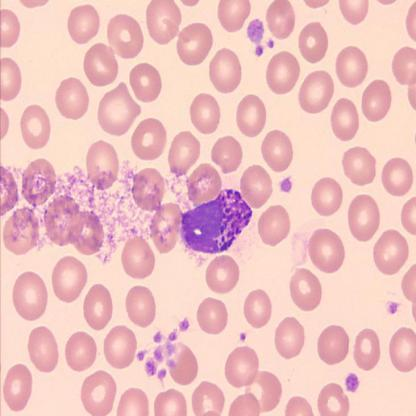Basophil: (177, 185, 255, 258)
